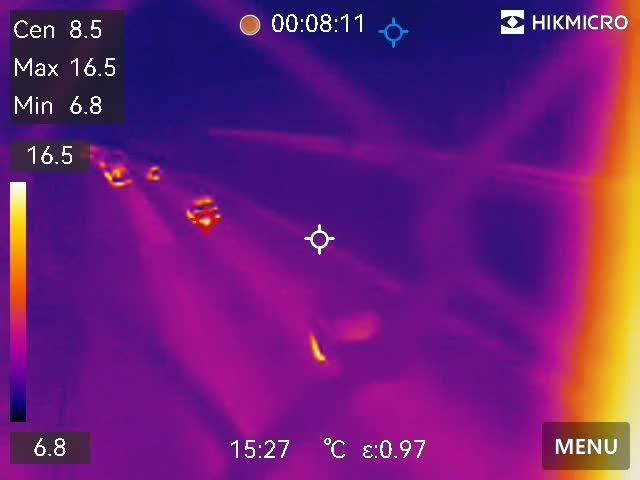vehicle: (189, 197, 220, 233), (105, 159, 136, 191), (145, 160, 169, 191)
